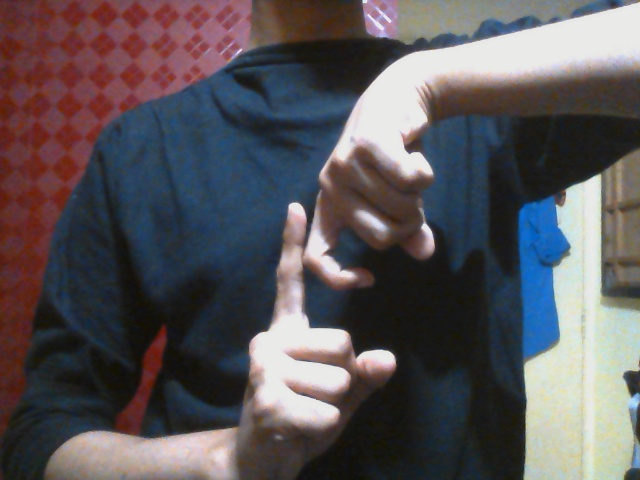K: (245, 121, 434, 463)
